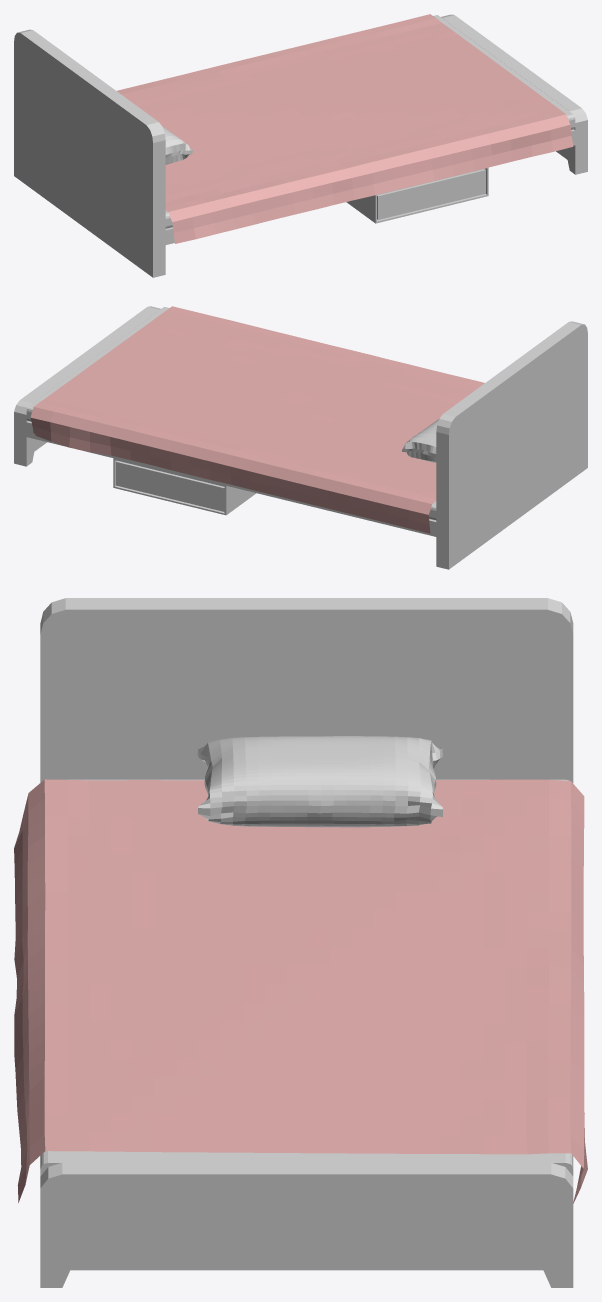
The picture shows the model from 3 angles, top to bottom: view 1: azimuth 30°, elevation 25°; view 2: azimuth 150°, elevation 25°; view 3: azimuth 270°, elevation 25°; orthographic projection. The views are drawn at different scales.
Visible parts, largest first — view 1: polySurface147; view 2: polySurface147; view 3: polySurface147.
Boxes of the visible parts, x1,y1,x2,y2 form: polySurface147: [14, 14, 587, 277]; polySurface147: [14, 306, 587, 569]; polySurface147: [14, 598, 587, 1287].
Bounding box in the file's own units: 50.46 × 16.39 × 30.11.
